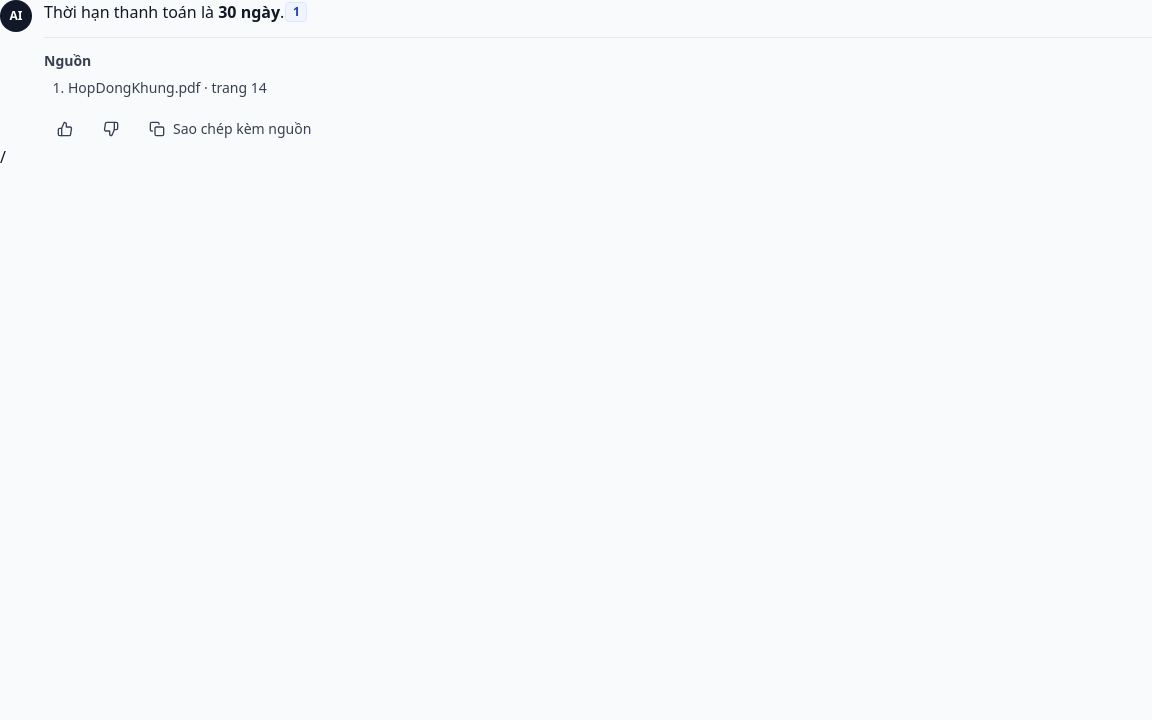
Test: AnswerCard › bấm [1] mở popover có đoạn trích; Esc đóng và trả focus
Click the button named "Nguồn 1: HopDongKhung.pdf trang 14". click: (296, 12)
box: [285,2,307,22]
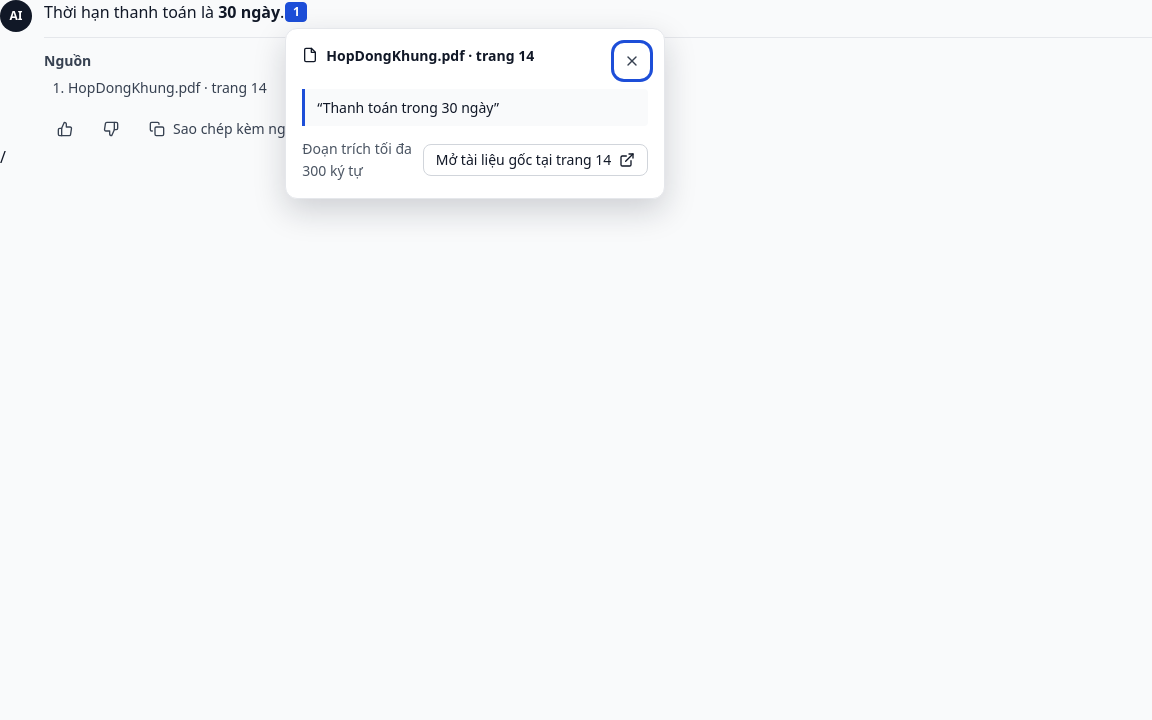
Expected: the text "“Thanh toán trong 30 ngày”" is shown, [302,88,648,126]
Expected: the button "Mở tài liệu gốc tại trang 14" is shown, [423,144,648,176]
Press Escape
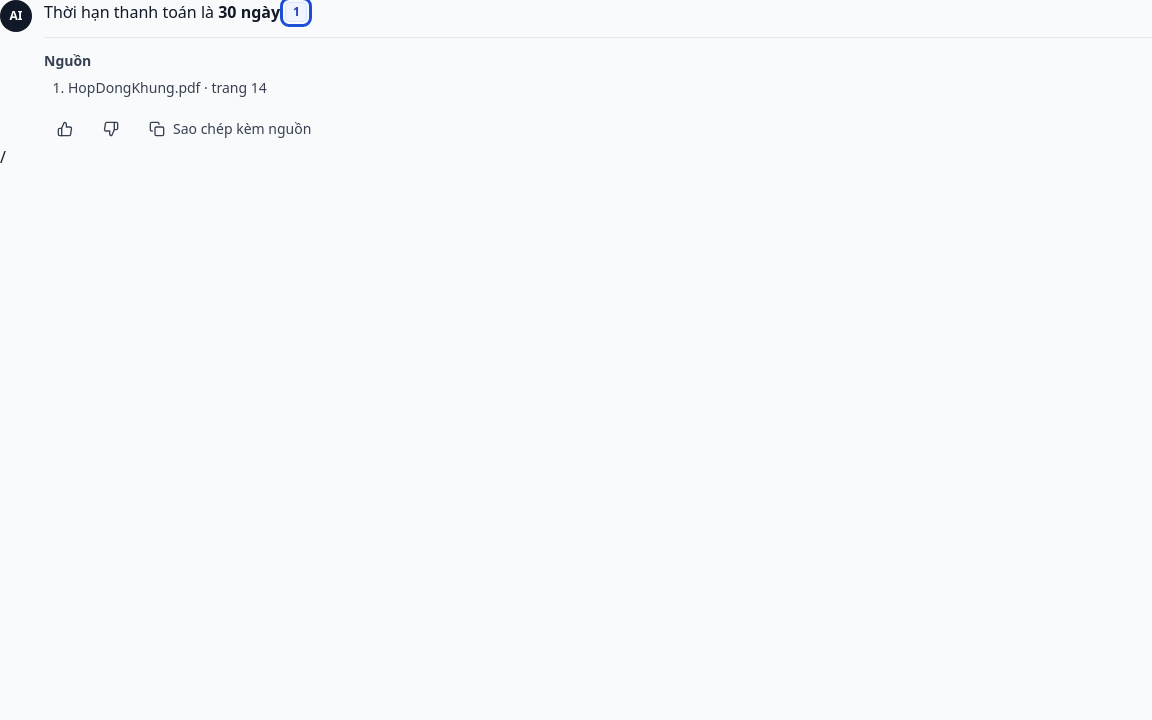
Expected: the dialog is gone
